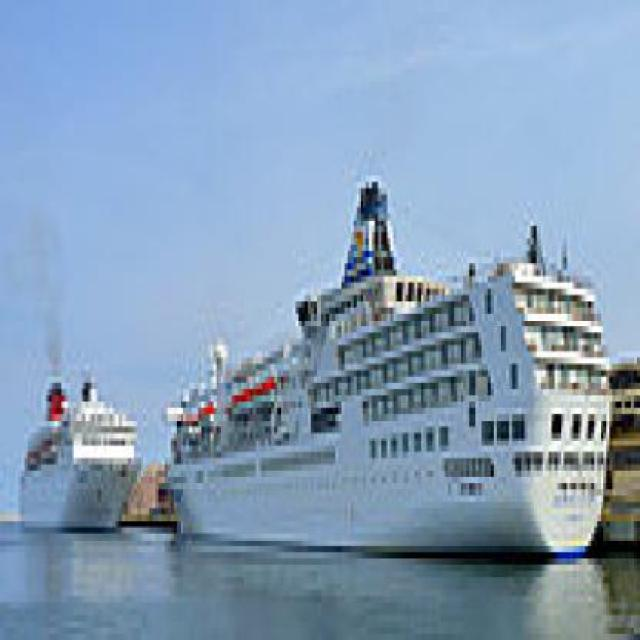cruise: (160, 145, 620, 566), (20, 339, 154, 541)
